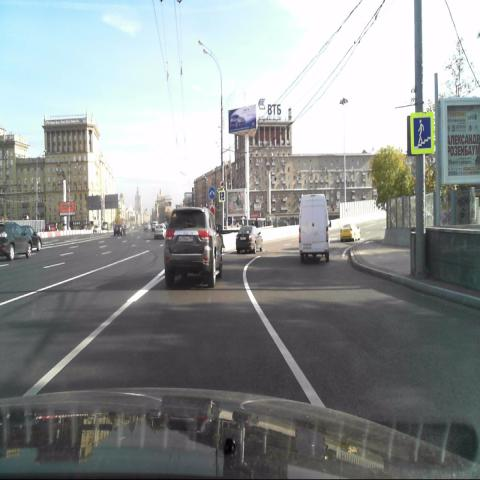6_6: (410, 112, 434, 154)
